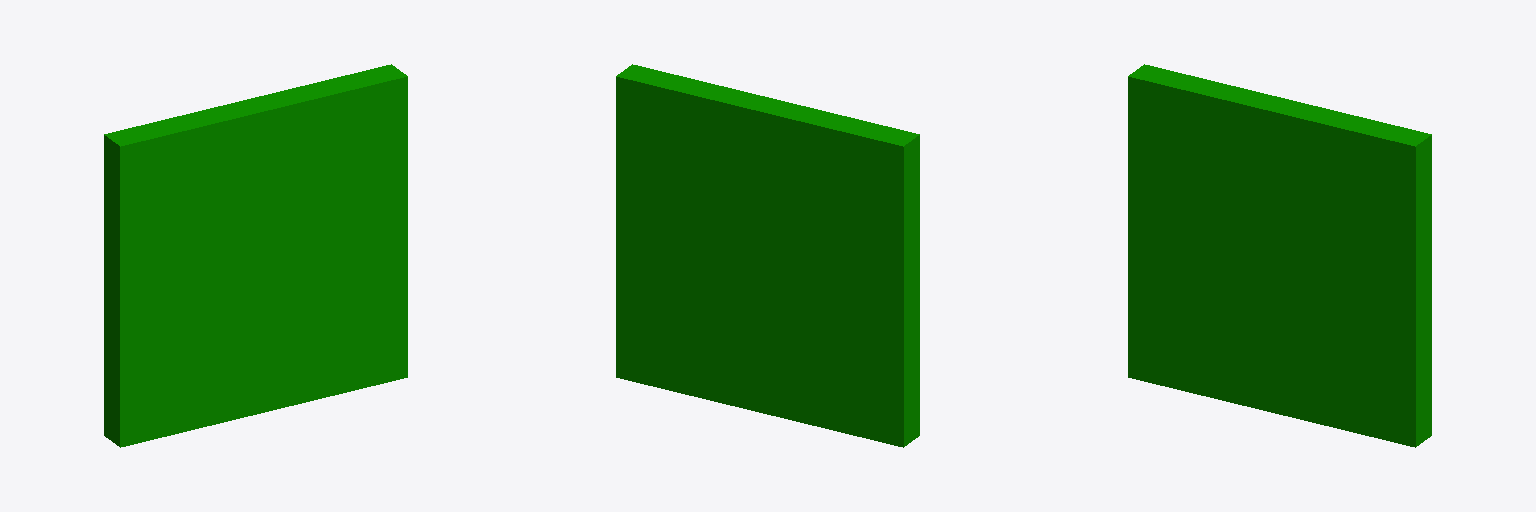
The model's file is progressBar.obj.
The picture shows the model from 3 angles: view 1: azimuth 30°, elevation 25°; view 2: azimuth 150°, elevation 25°; view 3: azimuth 330°, elevation 25°; orthographic projection.
Visible parts, largest first — view 1: Cube; view 2: Cube; view 3: Cube.
Boxes of the visible parts, <box> form: Cube: <box>104,64,407,447</box>; Cube: <box>616,64,919,447</box>; Cube: <box>1128,64,1431,447</box>.
Bounding box in the file's own units: 2 × 2 × 0.2.